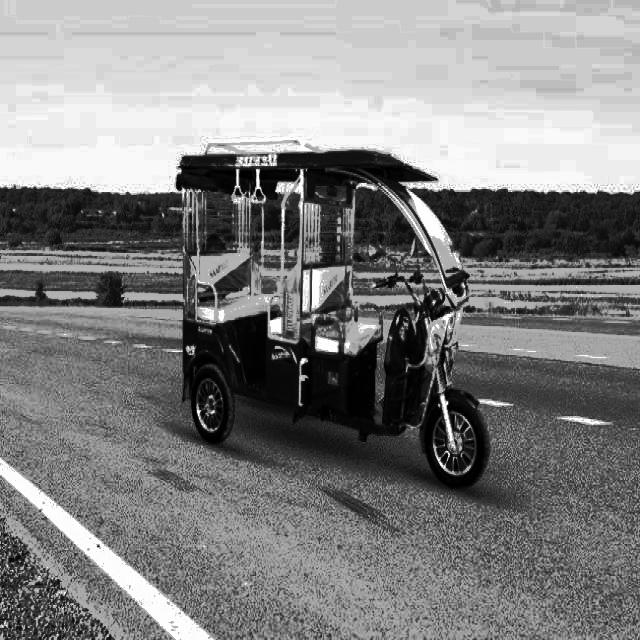Toto: (174, 140, 494, 474)
